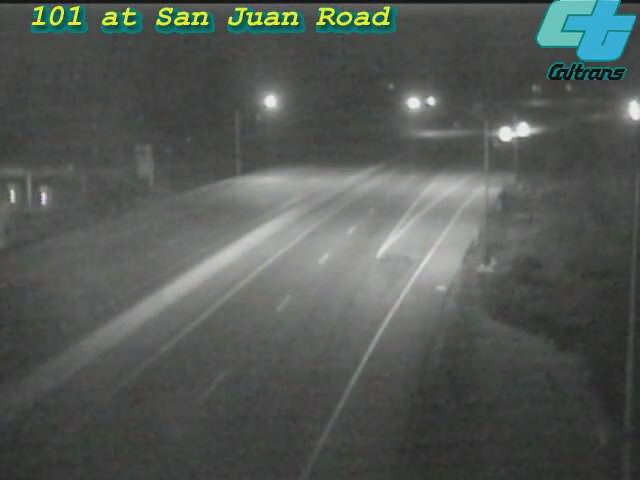vehicle: (494, 104, 544, 154), (479, 109, 529, 159), (610, 85, 640, 135)
